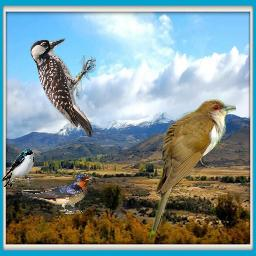Cuckoo: (150, 98, 236, 243)
Swallow: (22, 174, 92, 214), (1, 149, 34, 187)
Woodpecker: (30, 38, 96, 137)
